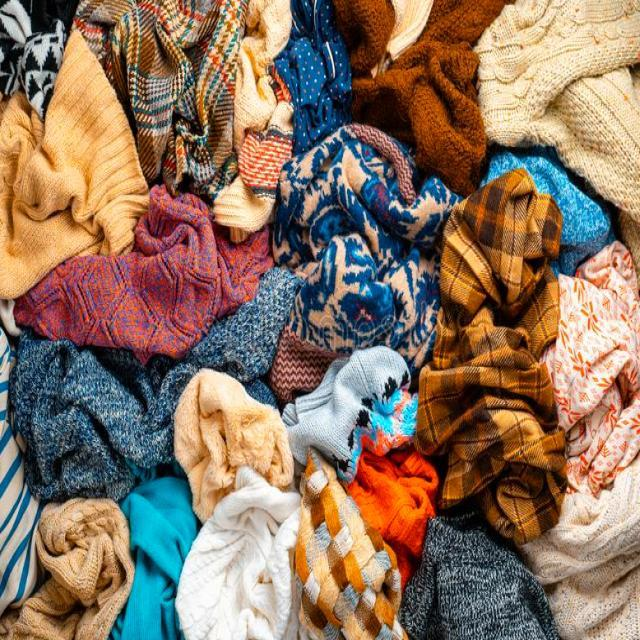clothes: (31, 77, 577, 578)
